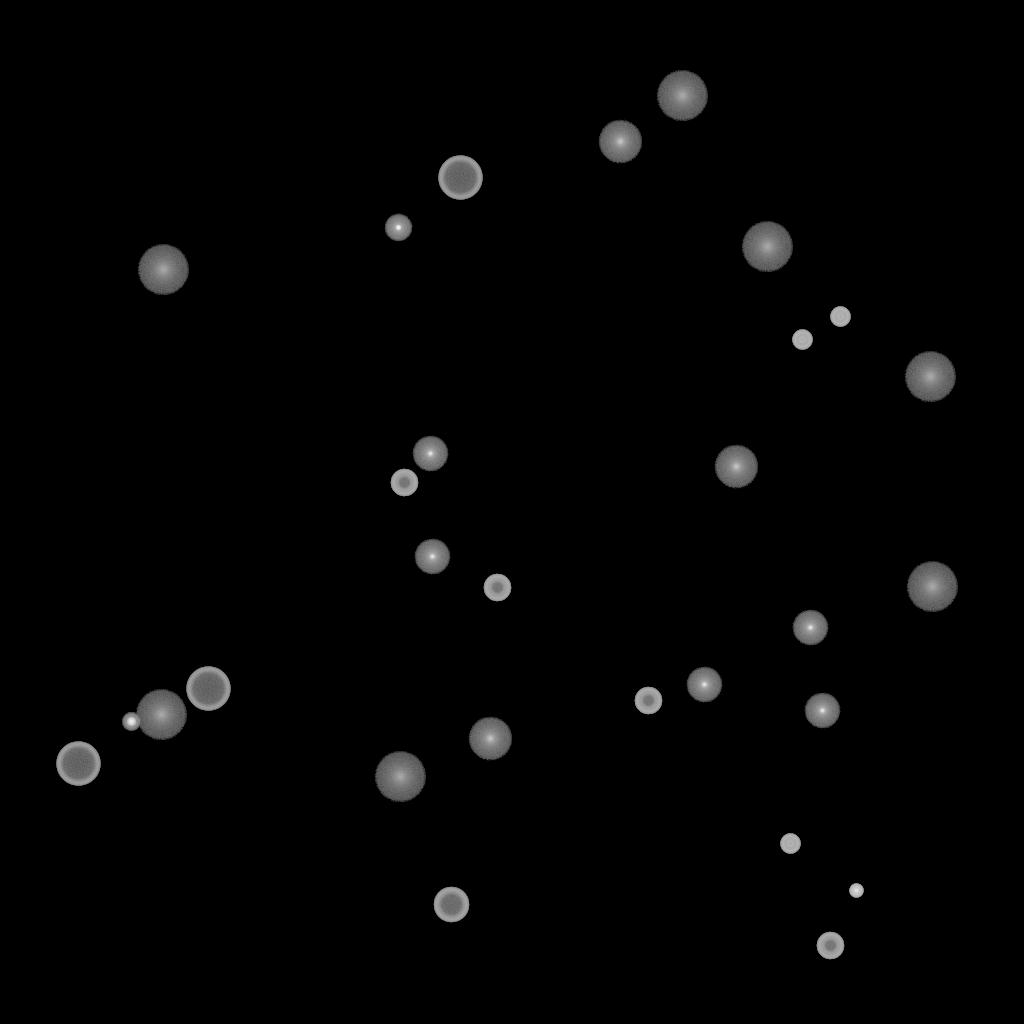depth:-10: (384, 214, 412, 242)
depth:-20: (122, 713, 140, 731)
depth:-30: (849, 884, 863, 898)
depth:-40: (830, 307, 850, 327), (780, 834, 800, 854), (792, 330, 812, 350)
depth:-50: (816, 932, 844, 960), (634, 687, 662, 715), (483, 574, 511, 602), (390, 469, 418, 497)
depth:-60: (433, 887, 469, 923)
depth:-70: (56, 742, 100, 786), (438, 156, 482, 200), (186, 667, 230, 711)
depth:0: (804, 693, 840, 729), (412, 436, 448, 472), (792, 610, 828, 646), (414, 539, 450, 575), (686, 667, 722, 703)
depth:10: (468, 717, 512, 761), (714, 445, 758, 489), (598, 120, 642, 164)
depth:20: (135, 690, 187, 740), (656, 71, 708, 121), (741, 222, 793, 272), (137, 245, 189, 295), (906, 562, 958, 612), (374, 752, 426, 802), (904, 352, 956, 402)
